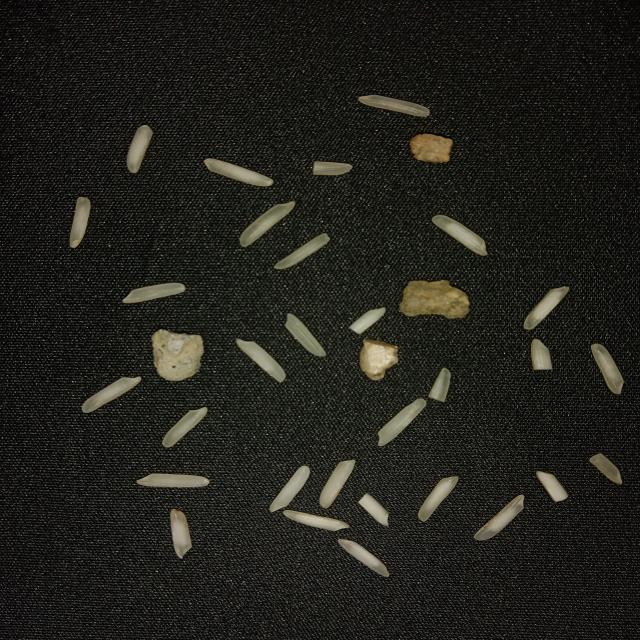Broken: (359, 493, 390, 528), (348, 306, 386, 333), (590, 453, 623, 484), (538, 472, 570, 502), (430, 367, 452, 402), (530, 338, 552, 370), (312, 161, 354, 176)
Full: (240, 201, 296, 247), (377, 398, 427, 446), (431, 215, 488, 256), (235, 338, 286, 383), (82, 376, 143, 413), (474, 495, 524, 540), (204, 157, 274, 187), (274, 233, 330, 270), (336, 540, 390, 578), (268, 466, 310, 513), (523, 286, 570, 328), (284, 313, 327, 358), (318, 459, 356, 509), (418, 476, 458, 522), (162, 407, 207, 447), (590, 344, 624, 396), (358, 94, 430, 118), (283, 509, 350, 532), (122, 282, 187, 304), (126, 125, 153, 173), (69, 197, 91, 248), (170, 510, 192, 559), (136, 474, 210, 487)
